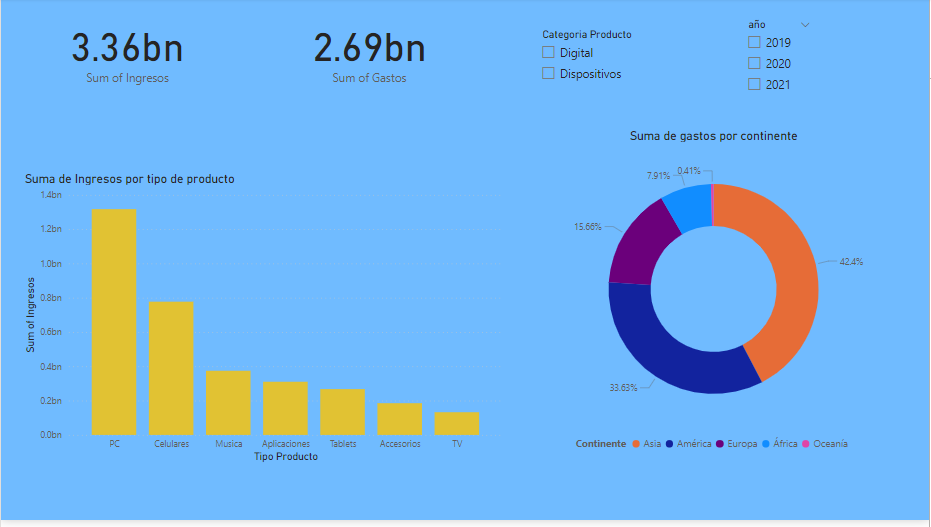

Layout of this report page (visuals, bound fields, positions):
{"tool":"powerbi","page":{"name":"Page 1","canvas":[1280,720],"ordinal":0},"visuals":[{"type":"donutChart","fields":{"Category":["Tabla_Datos.Continente"],"Y":["Sum(Tabla_Datos.Gastos)"]},"box":[546.9,0,733.1,512.7],"z":1},{"type":"card","fields":{"Values":["Sum(Tabla_Datos.Gastos)"]},"box":[0,155.5,418.7,140.1],"z":2},{"type":"card","fields":{"Values":["Sum(Tabla_Datos.Ingresos)"]},"box":[35.9,0,348.6,141.8],"z":3},{"type":"clusteredColumnChart","fields":{"Y":["Sum(Tabla_Datos.Ingresos)"],"Category":["Tabla_Productos.Tipo Producto"]},"box":[35.3,378,635,324.2],"z":4},{"type":"slicer","fields":{"Values":["Tabla_Datos.año"]},"box":[1090.3,562.2,111.1,140.1],"z":5},{"type":"slicer","fields":{"Values":["Tabla_Productos.Categoria Producto"]},"box":[804.9,562.2,217,116.2],"z":6}]}

Visuals, with their boxes in screenshot pixels (x1, y1, x2, y2), scaled from the page's 1280x720 canvas onto the 931x527 screenshot:
donutChart - Tabla_Datos.Continente x Sum(Tabla_Datos.Gastos): locate(398, 0, 930, 375)
card - Sum(Tabla_Datos.Gastos): locate(0, 114, 305, 216)
card - Sum(Tabla_Datos.Ingresos): locate(26, 0, 280, 104)
clusteredColumnChart - Sum(Tabla_Datos.Ingresos) x Tabla_Productos.Tipo Producto: locate(26, 277, 488, 514)
slicer - Tabla_Datos.año: locate(793, 411, 874, 514)
slicer - Tabla_Productos.Categoria Producto: locate(585, 411, 743, 497)
